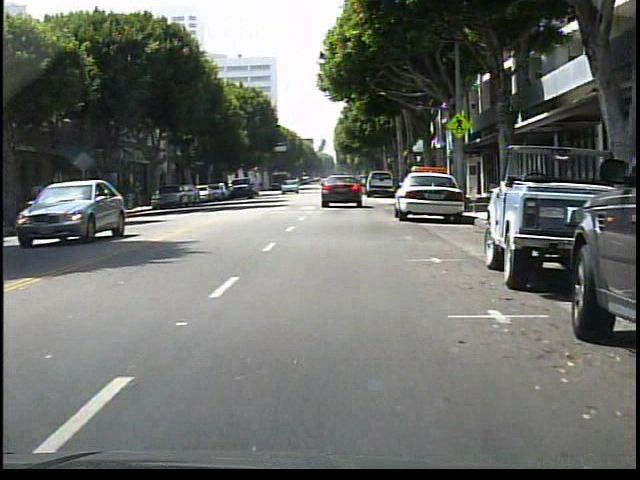person: (32, 179, 53, 225)
